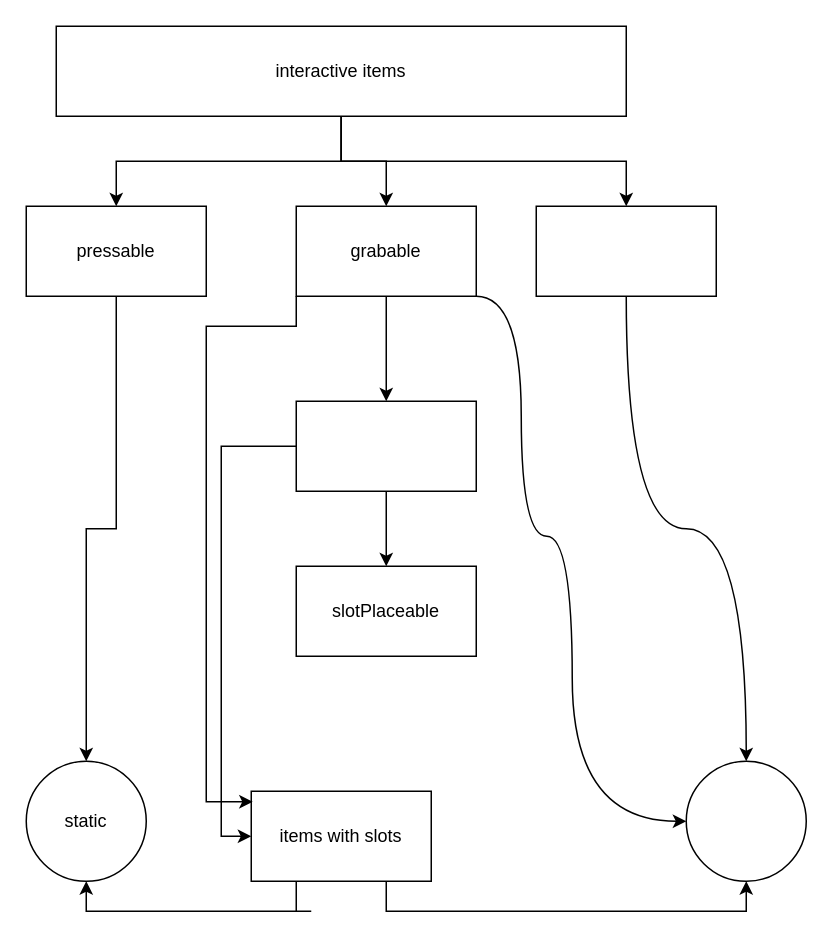
This 833x950 diagram has some shape labels left out. Each missing label, with the centre of its shape:
"inspectable" goes at point 385,445.
"movable" goes at point 625,250.
"rigidBody3d" goes at point 745,820.
